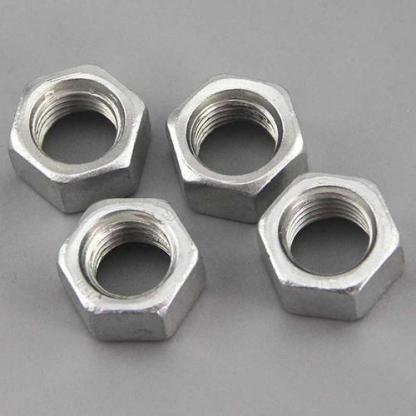FOD: (255, 168, 406, 323), (53, 196, 208, 344), (6, 61, 152, 218), (164, 72, 312, 223)
